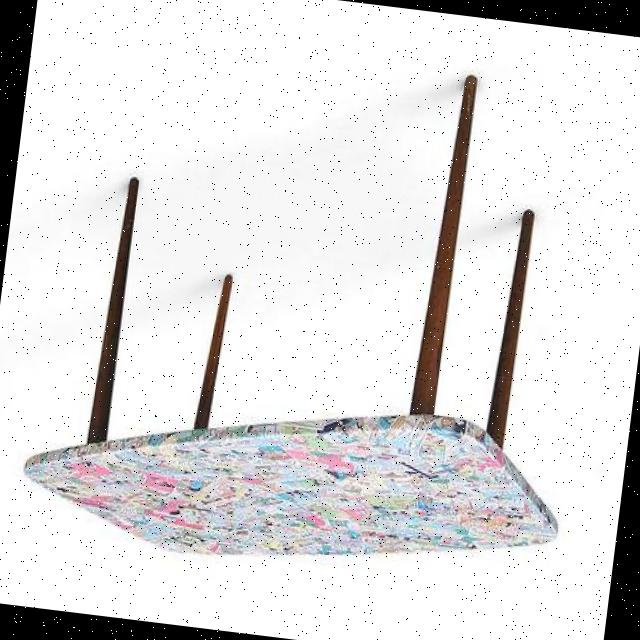Table: (0, 13, 629, 634)
